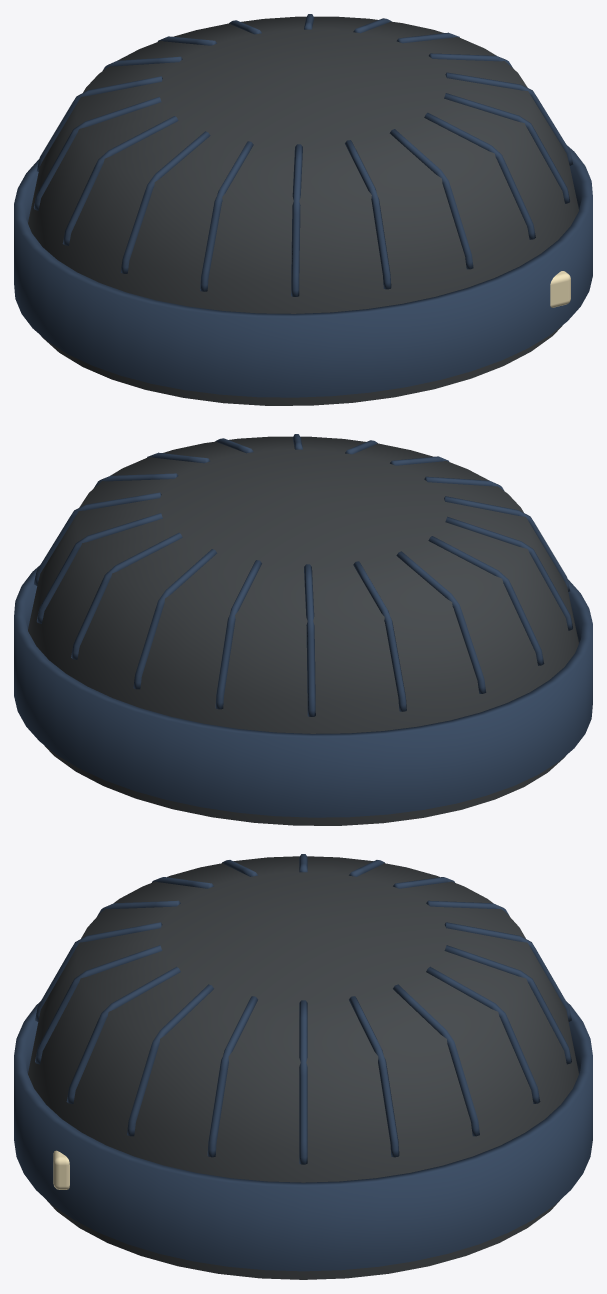
File: 15-harbor-docker.glb
The picture shows the model from 3 angles, top to bottom: view 1: azimuth 30°, elevation 25°; view 2: azimuth 150°, elevation 25°; view 3: azimuth 270°, elevation 25°; orthographic projection. The views are drawn at different scales.
Parts seen in each view (by area): view 1: Hat15_Crown1, Hat15_Band2, Hat15_KnitRib15, Hat15_KnitRib14, Hat15_KnitRib13, Hat15_KnitRib16, Hat15_KnitRib12, Hat15_KnitRib18, Hat15_KnitRib17, Hat15_KnitRib19, Hat15_KnitRib11, Hat15_KnitRib20 (+2 smaller); view 2: Hat15_Crown1, Hat15_Band2, Hat15_KnitRib9, Hat15_KnitRib10, Hat15_KnitRib11, Hat15_KnitRib8, Hat15_KnitRib12, Hat15_KnitRib6, Hat15_KnitRib7, Hat15_KnitRib5, Hat15_KnitRib13, Hat15_KnitRib4 (+1 smaller); view 3: Hat15_Crown1, Hat15_Band2, Hat15_KnitRib3, Hat15_KnitRib20, Hat15_KnitRib4, Hat15_KnitRib19, Hat15_KnitRib5, Hat15_KnitRib18, Hat15_KnitRib6, Hat15_KnitRib17, Hat15_KnitRib7, Hat15_KnitRib16 (+2 smaller).
Boxes of the visible parts, <box> form: Hat15_Crown1: <box>28,16,578,405</box>; Hat15_Band2: <box>14,145,592,397</box>; Hat15_KnitRib15: <box>291,144,302,296</box>; Hat15_KnitRib14: <box>200,141,253,291</box>; Hat15_KnitRib13: <box>120,131,210,273</box>; Hat15_KnitRib16: <box>345,140,391,289</box>; Hat15_KnitRib12: <box>62,116,178,245</box>; Hat15_KnitRib18: <box>424,112,535,239</box>; Hat15_KnitRib17: <box>389,129,473,269</box>; Hat15_KnitRib19: <box>444,93,569,203</box>; Hat15_KnitRib11: <box>34,96,161,210</box>; Hat15_KnitRib20: <box>445,72,572,165</box>; Hat15_Crown1: <box>28,436,578,825</box>; Hat15_Band2: <box>14,565,592,817</box>; Hat15_KnitRib9: <box>304,564,315,716</box>; Hat15_KnitRib10: <box>353,561,406,711</box>; Hat15_KnitRib11: <box>396,551,486,693</box>; Hat15_KnitRib8: <box>215,560,261,709</box>; Hat15_KnitRib12: <box>428,536,544,665</box>; Hat15_KnitRib6: <box>71,532,182,659</box>; Hat15_KnitRib7: <box>133,549,217,689</box>; Hat15_KnitRib5: <box>37,513,162,623</box>; Hat15_KnitRib13: <box>445,516,572,630</box>; Hat15_KnitRib4: <box>34,492,161,585</box>; Hat15_Crown1: <box>28,856,578,1279</box>; Hat15_Band2: <box>14,1001,592,1271</box>; Hat15_KnitRib3: <box>299,1000,307,1164</box>; Hat15_KnitRib20: <box>207,996,257,1157</box>; Hat15_KnitRib4: <box>349,996,399,1157</box>; Hat15_KnitRib19: <box>127,984,213,1136</box>; Hat15_KnitRib5: <box>393,984,479,1136</box>; Hat15_KnitRib18: <box>66,966,180,1103</box>; Hat15_KnitRib6: <box>426,966,540,1103</box>; Hat15_KnitRib17: <box>35,945,162,1064</box>; Hat15_KnitRib7: <box>444,945,571,1064</box>; Hat15_KnitRib16: <box>35,922,162,1021</box>.
Size of the model in its own units: 0.652 by 0.27 by 0.6064.
